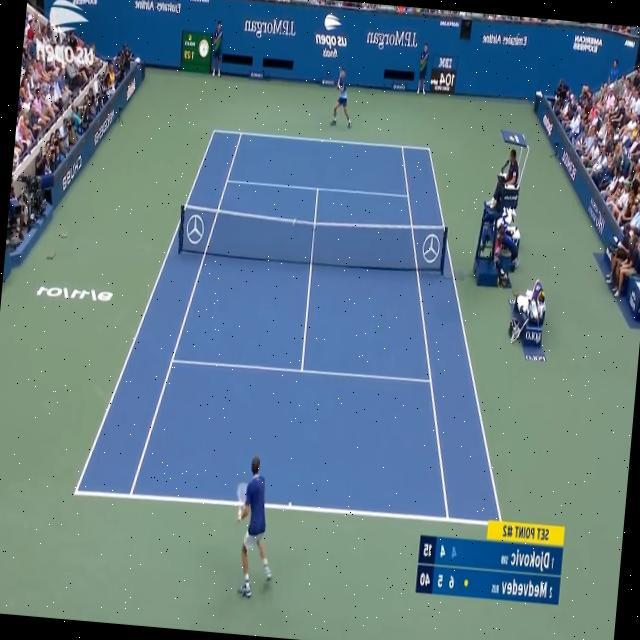Emirates: (501, 32, 528, 48), (155, 0, 180, 16)
